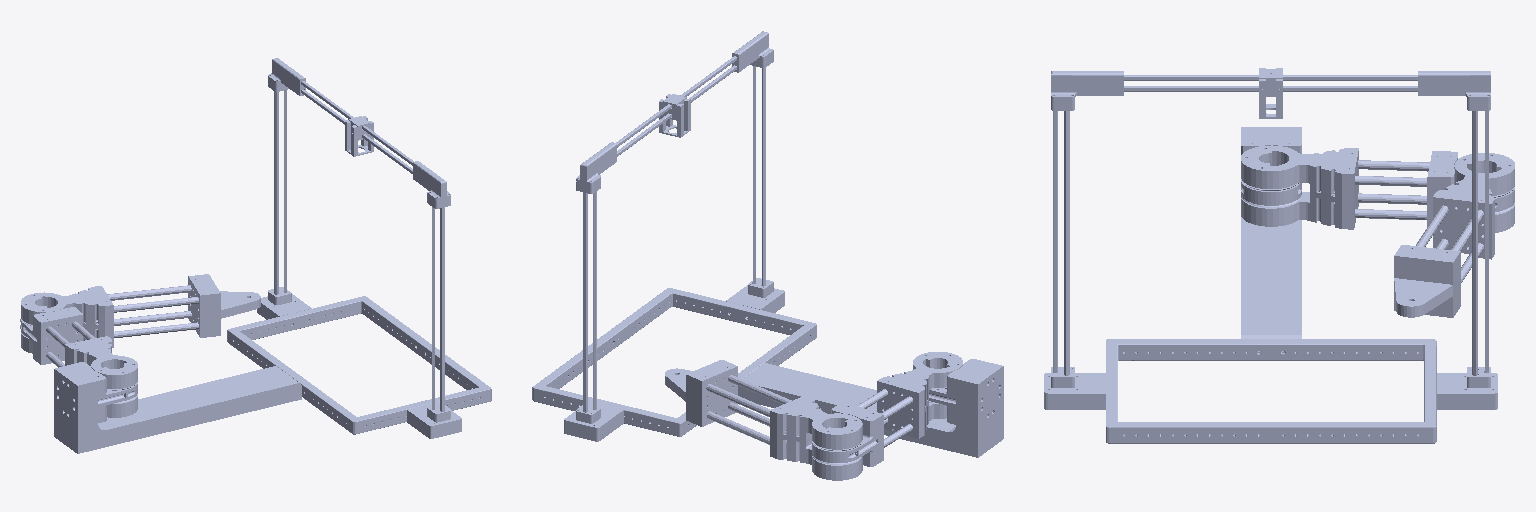
The robot description file, URDF, robot "HITC_platform":
<?xml version="1.0" encoding="utf-8"?>
<!-- This URDF was automatically created by SolidWorks to URDF Exporter! Originally created by [author] ([email redacted]) 
     Commit Version: 1.6.0-4-g7f85cfe  Build Version: 1.6.7995.38578
     For more information, please see http://wiki.ros.org/sw_urdf_exporter -->
<robot
  name="HITC_platform">
  <link
    name="base_link">
    <inertial>
      <origin
        xyz="0.40138 -5.4265E-10 -0.037492"
        rpy="0 0 0" />
      <mass
        value="4.9982" />
      <inertia
        ixx="0.016961"
        ixy="1.8221E-12"
        ixz="0.0091637"
        iyy="0.092762"
        iyz="-5.3802E-13"
        izz="0.098063" />
    </inertial>
    <visual>
      <origin
        xyz="0 0 0"
        rpy="0 0 0" />
      <geometry>
        <mesh
          filename="package://HITC_platform/meshes/base_link.STL" />
      </geometry>
      <material
        name="">
        <color
          rgba="0.79216 0.81961 0.93333 1" />
      </material>
    </visual>
    <collision>
      <origin
        xyz="0 0 0"
        rpy="0 0 0" />
      <geometry>
        <mesh
          filename="package://HITC_platform/meshes/base_link.STL" />
      </geometry>
    </collision>
  </link>
  <link
    name="link1">
    <inertial>
      <origin
        xyz="0.12746 -1.4111E-09 -0.00099064"
        rpy="0 0 0" />
      <mass
        value="1.7203" />
      <inertia
        ixx="0.0017794"
        ixy="-2.0011E-11"
        ixz="-2.4925E-05"
        iyy="0.0031723"
        iyz="-1.4652E-12"
        izz="0.0036823" />
    </inertial>
    <visual>
      <origin
        xyz="0 0 0"
        rpy="0 0 0" />
      <geometry>
        <mesh
          filename="package://HITC_platform/meshes/link1.STL" />
      </geometry>
      <material
        name="">
        <color
          rgba="0.79216 0.81961 0.93333 1" />
      </material>
    </visual>
    <collision>
      <origin
        xyz="0 0 0"
        rpy="0 0 0" />
      <geometry>
        <mesh
          filename="package://HITC_platform/meshes/link1.STL" />
      </geometry>
    </collision>
  </link>
  <joint
    name="base_L1"
    type="continuous">
    <origin
      xyz="0.12 0 0"
      rpy="0 0 1.491" />
    <parent
      link="base_link" />
    <child
      link="link1" />
    <axis
      xyz="0 0 1" />
  </joint>
  <link
    name="link2">
    <inertial>
      <origin
        xyz="0.15853 2.6055E-10 -0.0009441"
        rpy="0 0 0" />
      <mass
        value="1.8051" />
      <inertia
        ixx="0.00179"
        ixy="-4.0801E-11"
        ixz="-2.4925E-05"
        iyy="0.003688"
        iyz="-8.8192E-13"
        izz="0.004154" />
    </inertial>
    <visual>
      <origin
        xyz="0 0 0"
        rpy="0 0 0" />
      <geometry>
        <mesh
          filename="package://HITC_platform/meshes/link2.STL" />
      </geometry>
      <material
        name="">
        <color
          rgba="0.79216 0.81961 0.93333 1" />
      </material>
    </visual>
    <collision>
      <origin
        xyz="0 0 0"
        rpy="0 0 0" />
      <geometry>
        <mesh
          filename="package://HITC_platform/meshes/link2.STL" />
      </geometry>
    </collision>
  </link>
  <joint
    name="L1-L2"
    type="continuous">
    <origin
      xyz="0.35 0 0"
      rpy="0 0 -1.7602" />
    <parent
      link="link1" />
    <child
      link="link2" />
    <axis
      xyz="0 0 1" />
  </joint>
</robot>

--- Render facts (derived) ---
3 views of the same robot in one strip: view 1: azimuth 30°, elevation 25°; view 2: azimuth 150°, elevation 25°; view 3: azimuth 270°, elevation 25° (orthographic).
Robot: HITC_platform — 3 links, 2 joints (2 continuous); root link base_link; default pose: every joint at zero.
Visible links, largest first — view 1: base_link, link2, link1; view 2: base_link, link2, link1; view 3: base_link, link1, link2.
Link boxes in pixels (x1,y1,x2,y2): base_link: (54, 58, 491, 453); link2: (21, 274, 260, 353); link1: (20, 307, 137, 417); base_link: (532, 31, 1003, 457); link2: (665, 360, 862, 480); link1: (812, 352, 962, 466); base_link: (1044, 68, 1497, 443); link1: (1241, 145, 1514, 229); link2: (1394, 153, 1514, 317).
Bounding box of the posed robot: 0.89 × 0.7689 × 0.595 m (x, y, z).
Meshes: 3 distinct files referenced, 3 mesh visuals loaded (3 binary STL).